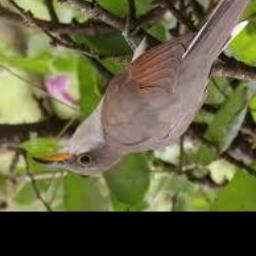Cuckoo: (32, 0, 256, 176)
